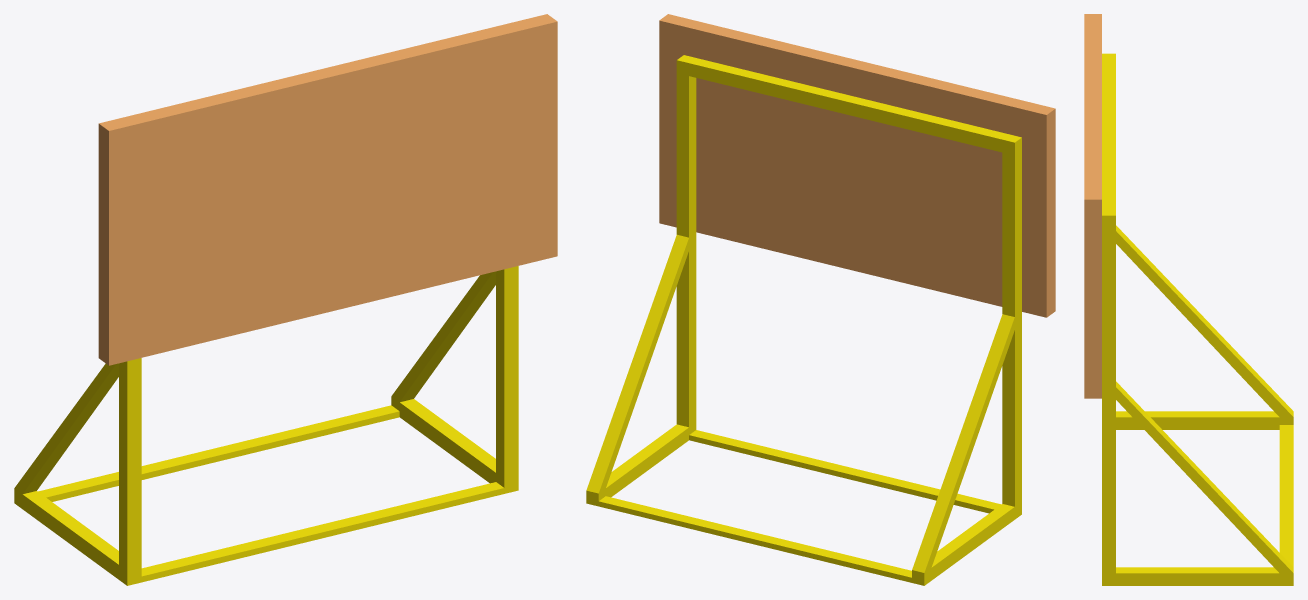
The model's file is billboard.glb.
3 views of the same model, side by side, from view 1: azimuth 30°, elevation 25°; view 2: azimuth 150°, elevation 25°; view 3: azimuth 270°, elevation 25° (orthographic). The views are drawn at different scales.
Parts seen in each view (by area): view 1: billboard(Clone); view 2: billboard(Clone); view 3: billboard(Clone).
Part boxes in pixels (box(x1,y1,x2,y2)): billboard(Clone): box(14, 14, 557, 585); billboard(Clone): box(586, 14, 1055, 585); billboard(Clone): box(1084, 14, 1293, 585).
Bounding box in the file's own units: 1 × 1 × 0.4762.
